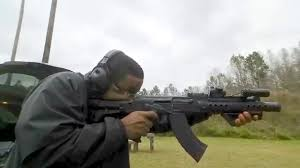Rifle: (83, 87, 281, 165)
